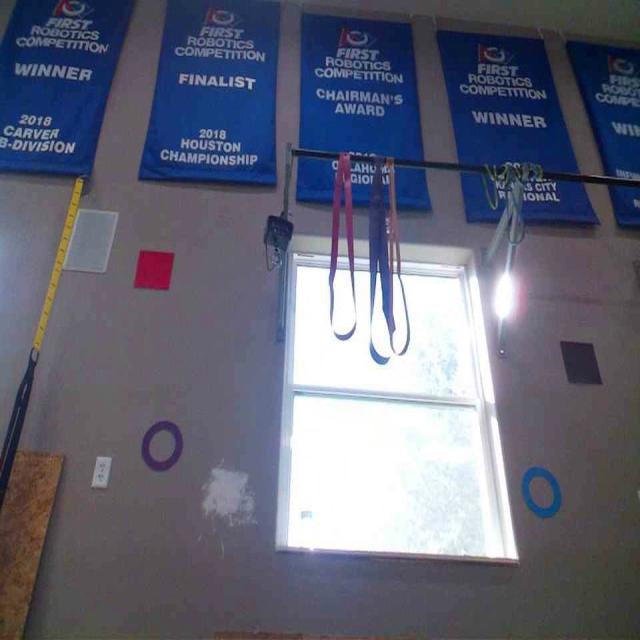ring_blue: (522, 466, 561, 517)
ring_purple: (141, 418, 184, 468)
square_black: (558, 338, 601, 383)
square_red: (131, 249, 174, 289)
